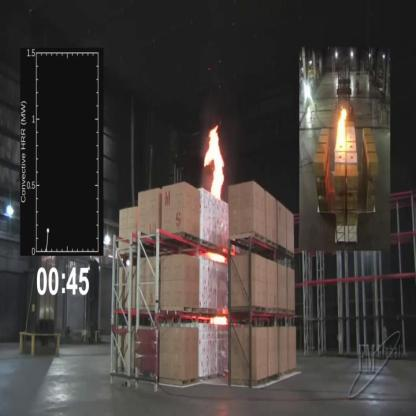fire: (203, 122, 226, 204)
